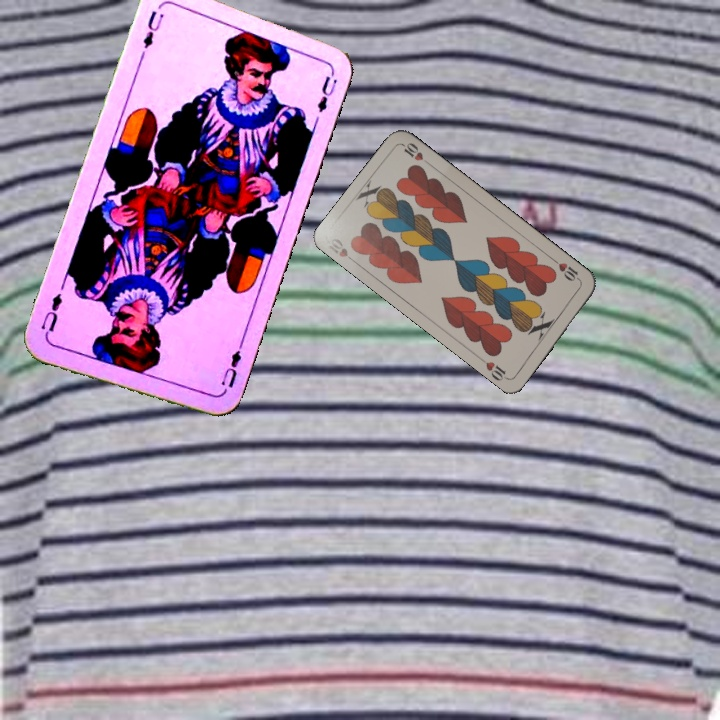EU: (138, 6, 166, 51), (217, 346, 244, 391)
H10: (324, 234, 359, 267), (549, 255, 584, 285)
